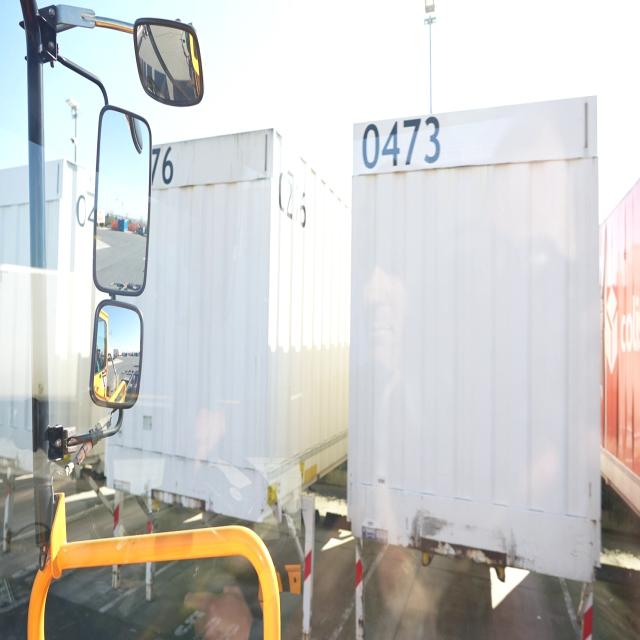Code: (362, 114, 444, 176)
